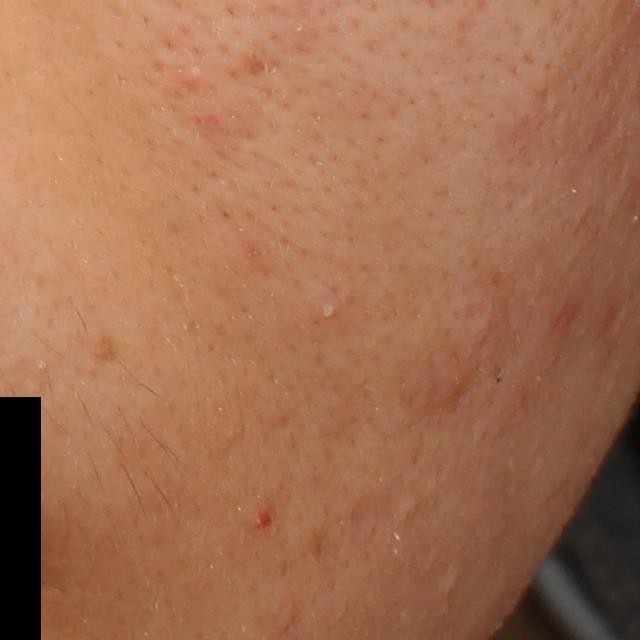comedo: (437, 569, 460, 599), (399, 499, 424, 517)
papule: (417, 369, 472, 419), (172, 51, 220, 97), (250, 505, 278, 532)
pustule: (316, 297, 342, 322)
